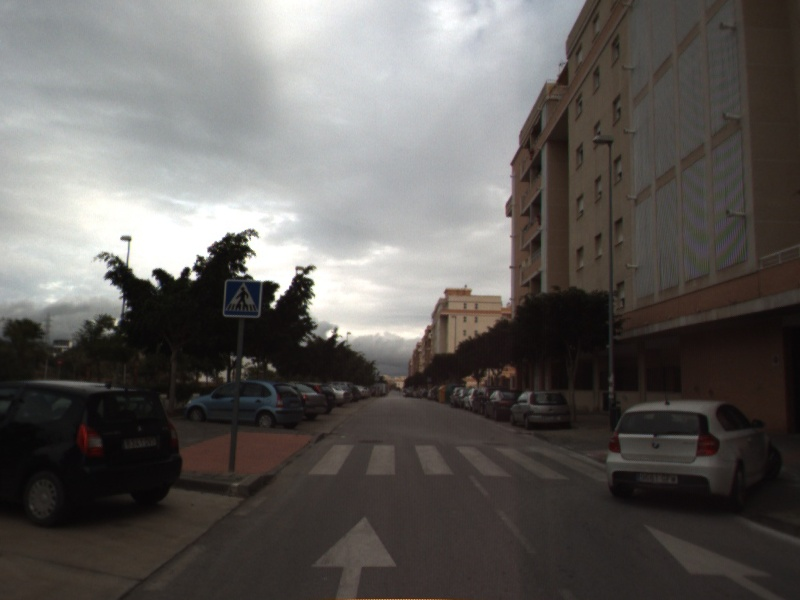STRAIGHT: (641, 522, 790, 600), (309, 514, 400, 600)
